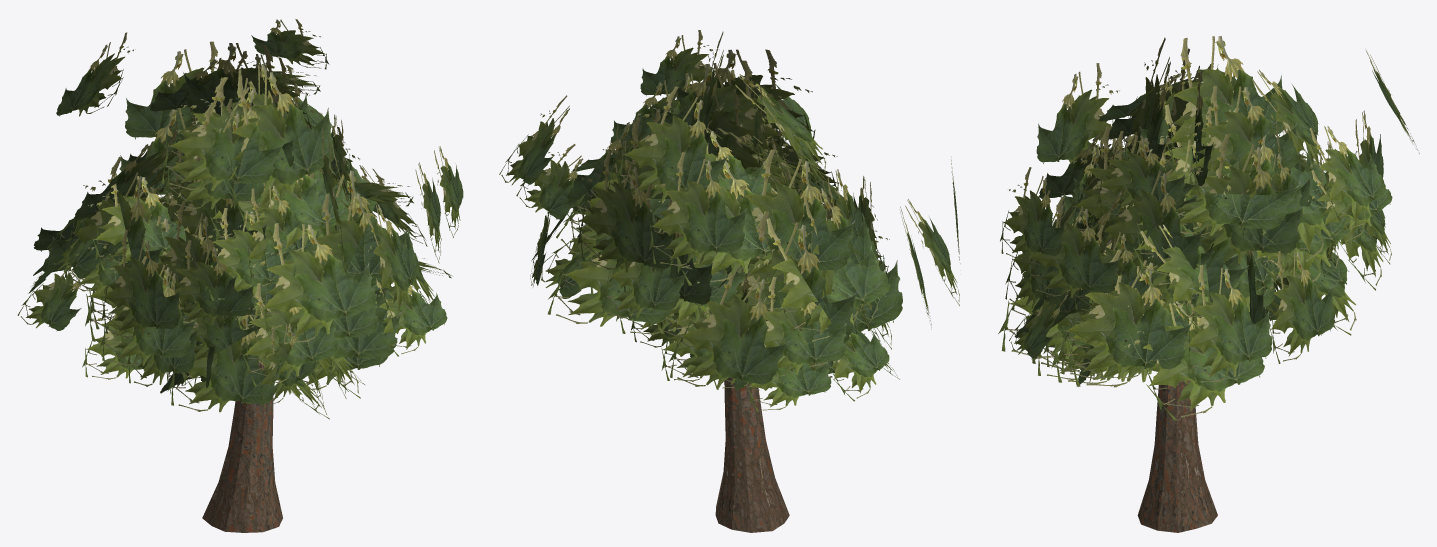
File: prop_tree.glb
3 views of the same model, side by side, from view 1: azimuth 30°, elevation 25°; view 2: azimuth 150°, elevation 25°; view 3: azimuth 270°, elevation 25° (orthographic). The views are drawn at different scales.
Visible parts, largest first — view 1: prop; view 2: prop; view 3: prop.
Part boxes in pixels (x1,y1,x2,y2): prop: [17, 19, 463, 532]; prop: [499, 30, 960, 532]; prop: [998, 36, 1419, 532].
Size of the model in its own units: 4.92 by 5.64 by 4.53.
4 materials, 4 textured.
